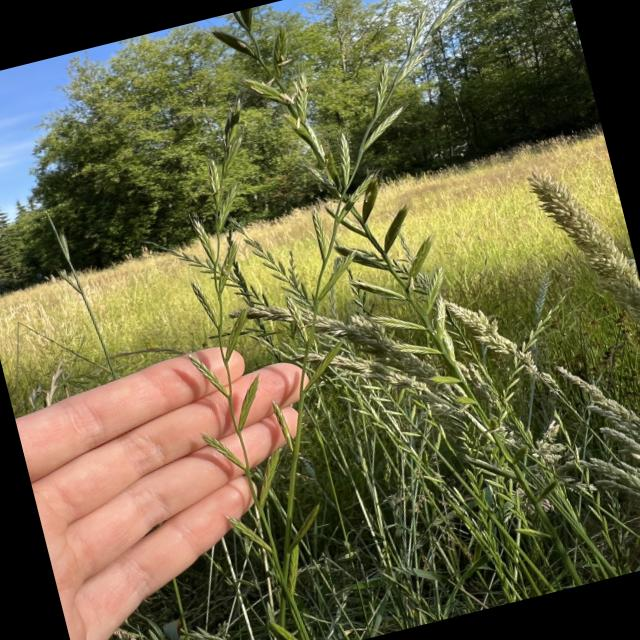Lolium: (113, 0, 640, 640), (231, 0, 464, 437), (162, 206, 324, 584), (555, 342, 640, 551), (528, 159, 620, 289)
